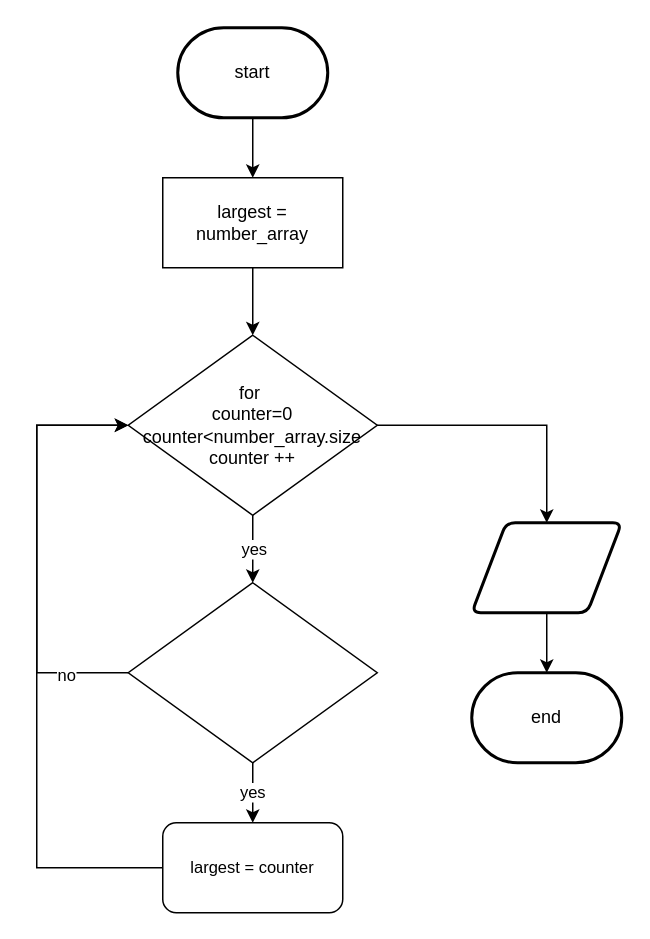
Some shapes in this 650 by 939 pixel diagram are drawn without their labels. Each missing label, with the box of its shape:
if counter > largest: (127, 581, 377, 763)
print largest: (470, 520, 622, 614)
